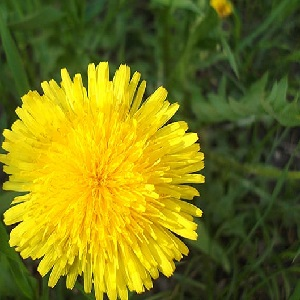dandelion: (10, 73, 200, 295)
